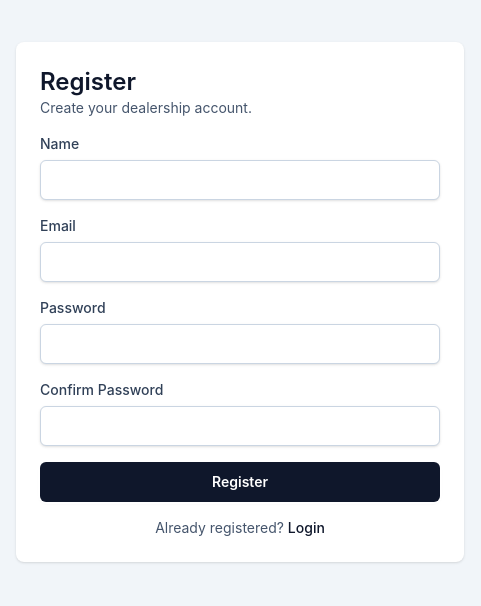
Scenario: Register Page › validates matching passwords
This screenshot has width=481, height=606.
Type "Hiren" into the field labelled "Name" at x=240, y=180, box [40,160,440,200]
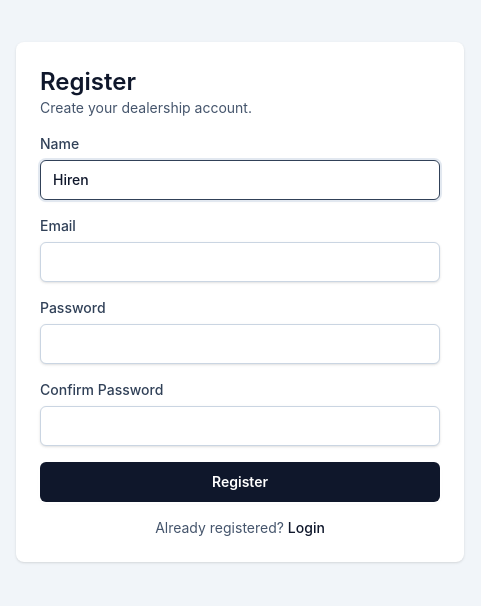
Type "hiren@example.com" into the field labelled "Email" at x=240, y=262, box [40,242,440,282]
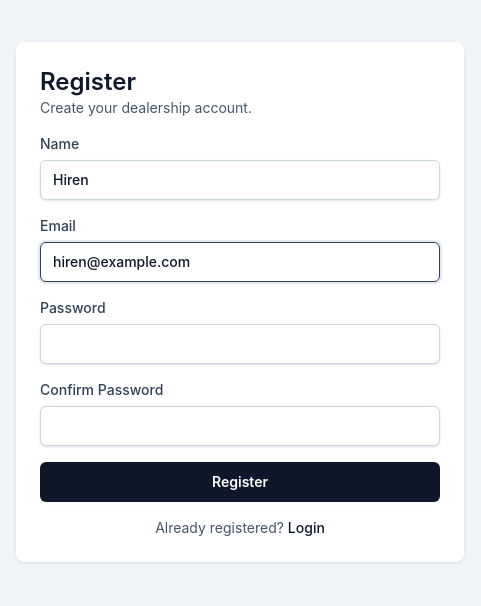
Type "Password123" into the password field labelled "Password" at x=240, y=344, box [40,324,440,364]
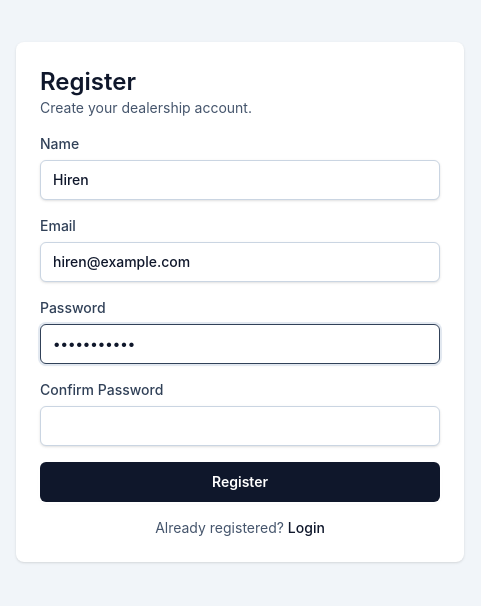
Type "Different123" into the password field labelled "Confirm Password" at x=240, y=426, box [40,406,440,446]
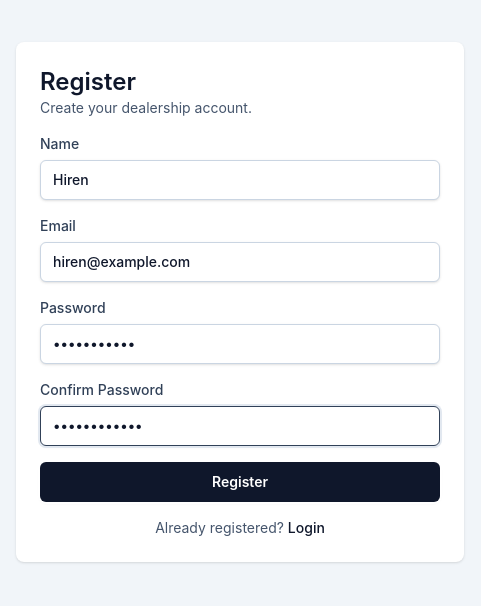
Click the button "Register" at x=240, y=482, box [40,462,440,502]
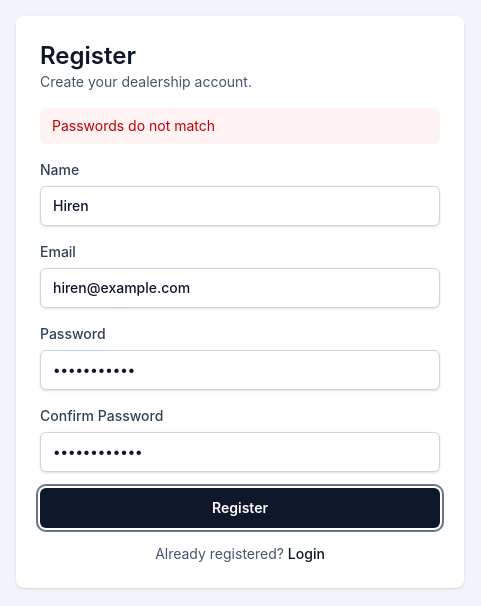
Now the text "Passwords do not match" is shown, box [40,108,440,144]
